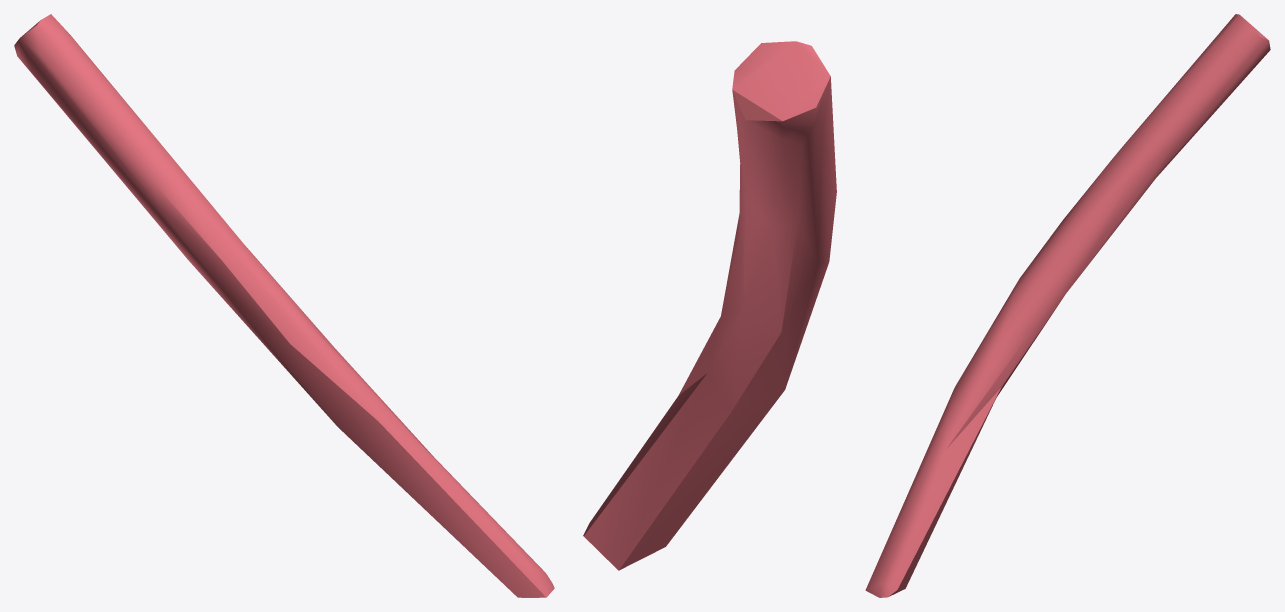
The model's file is fma68694_fj2987.glb.
3 renders of one model, left to right at view 1: azimuth 30°, elevation 25°; view 2: azimuth 150°, elevation 25°; view 3: azimuth 270°, elevation 25°, orthographic. The views are drawn at different scales.
Parts seen in each view (by area): view 1: FMA68694_FJ2987; view 2: FMA68694_FJ2987; view 3: FMA68694_FJ2987.
Boxes of the visible parts, x1,y1,x2,y2 form: FMA68694_FJ2987: (14, 14, 554, 597); FMA68694_FJ2987: (583, 41, 836, 570); FMA68694_FJ2987: (865, 14, 1270, 597).
Size of the model in its own units: 0.0179 by 0.0256 by 0.0209.
